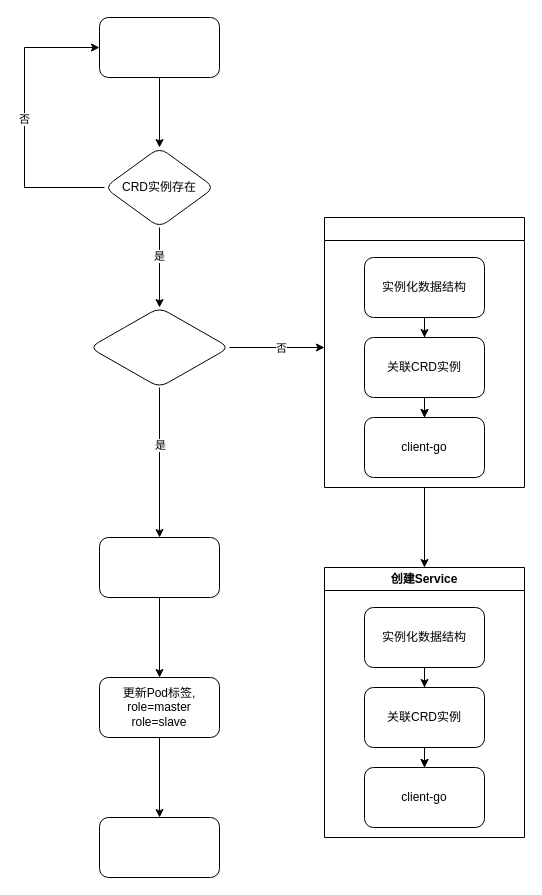
Image size: 542x895. Some labels were removed from this diagram. The shapes that lost their labels are listed below. From the top down, each one's centre as x and y in pixels, then its label:
At [159,47]: "查询CRD实例".
At [159,347]: "StatefulSet是否存在".
At [424,352]: "创建StatefulSet".
At [159,567]: "初始化MySQL主从集群".
At [159,847]: "更新CRD状态".
